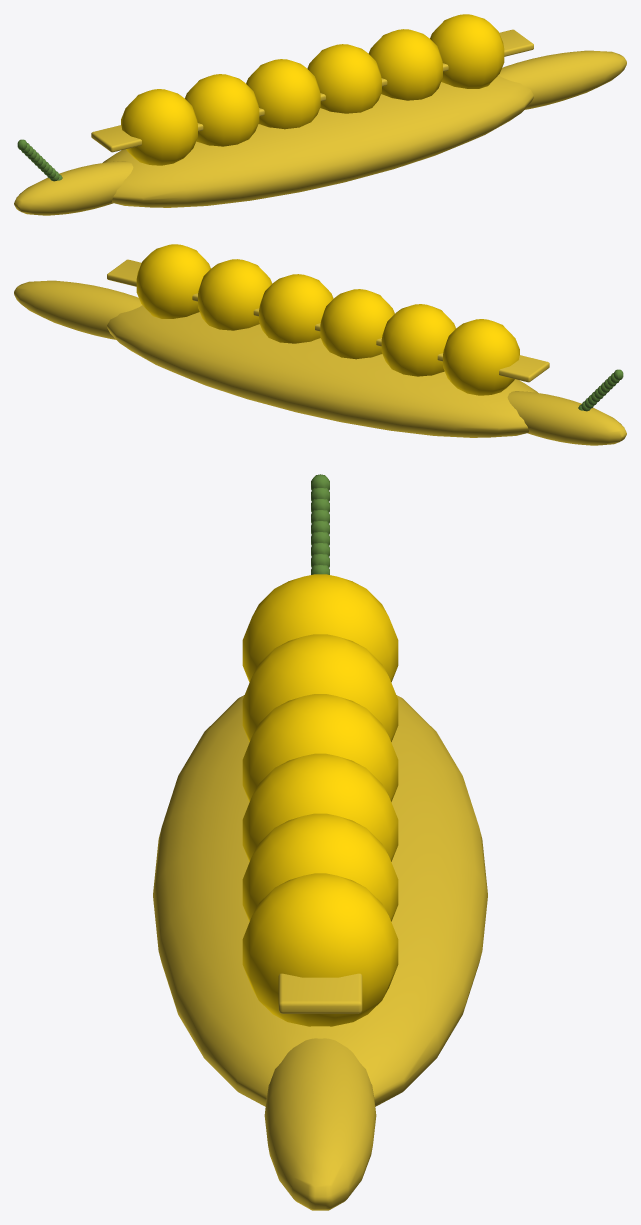
The model's file is vagem_amarela.glb.
3 renders of one model, top to bottom at view 1: azimuth 30°, elevation 25°; view 2: azimuth 150°, elevation 25°; view 3: azimuth 270°, elevation 25°, orthographic. The views are drawn at different scales.
Parts seen in each view (by area): view 1: vagem_amarela; view 2: vagem_amarela; view 3: vagem_amarela.
Boxes of the visible parts, <box> form: vagem_amarela: <box>14,14,626,215</box>; vagem_amarela: <box>14,244,626,445</box>; vagem_amarela: <box>153,474,487,1210</box>.
Size of the model in its own units: 1.51 by 0.275 by 0.36.
